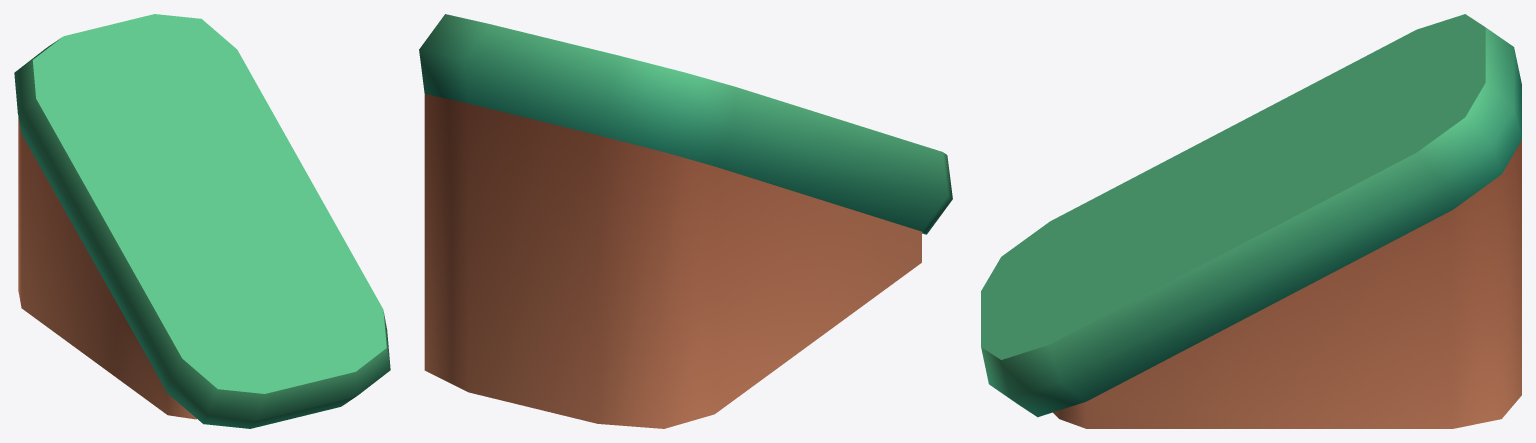
The model's file is block-grass-large-slope-steep-narrow.glb.
3 views of the same model, side by side, from view 1: azimuth 30°, elevation 25°; view 2: azimuth 150°, elevation 25°; view 3: azimuth 270°, elevation 25° (orthographic). The views are drawn at different scales.
Visible parts, largest first — view 1: block-grass-large-slope-steep-narrow; view 2: block-grass-large-slope-steep-narrow; view 3: block-grass-large-slope-steep-narrow.
Boxes of the visible parts, bbox=[...] form: block-grass-large-slope-steep-narrow: bbox=[14, 14, 390, 428]; block-grass-large-slope-steep-narrow: bbox=[419, 14, 952, 428]; block-grass-large-slope-steep-narrow: bbox=[981, 14, 1521, 428].
Size of the model in its own units: 1.08 by 1.22 by 1.86.
1 material, 1 textured.
